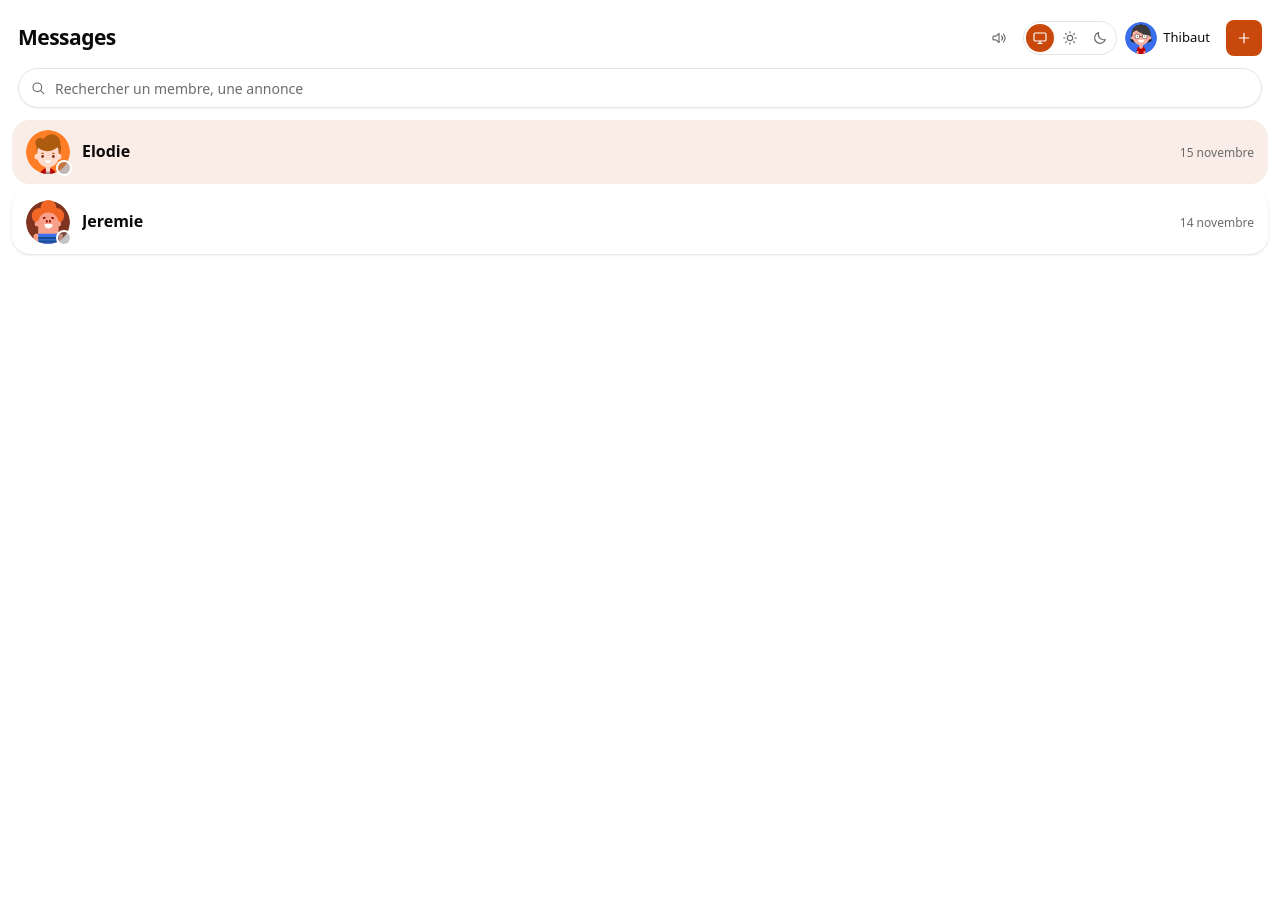
Test: ConversationList › opens the new conversation dialog and lists the members
This screenshot has width=1280, height=900.
Check: the list named "Liste des conversations" is shown, box [12,120,1268,254]
Click the button named "Nouvelle conversation": (1244, 38) [1226,20,1262,56]
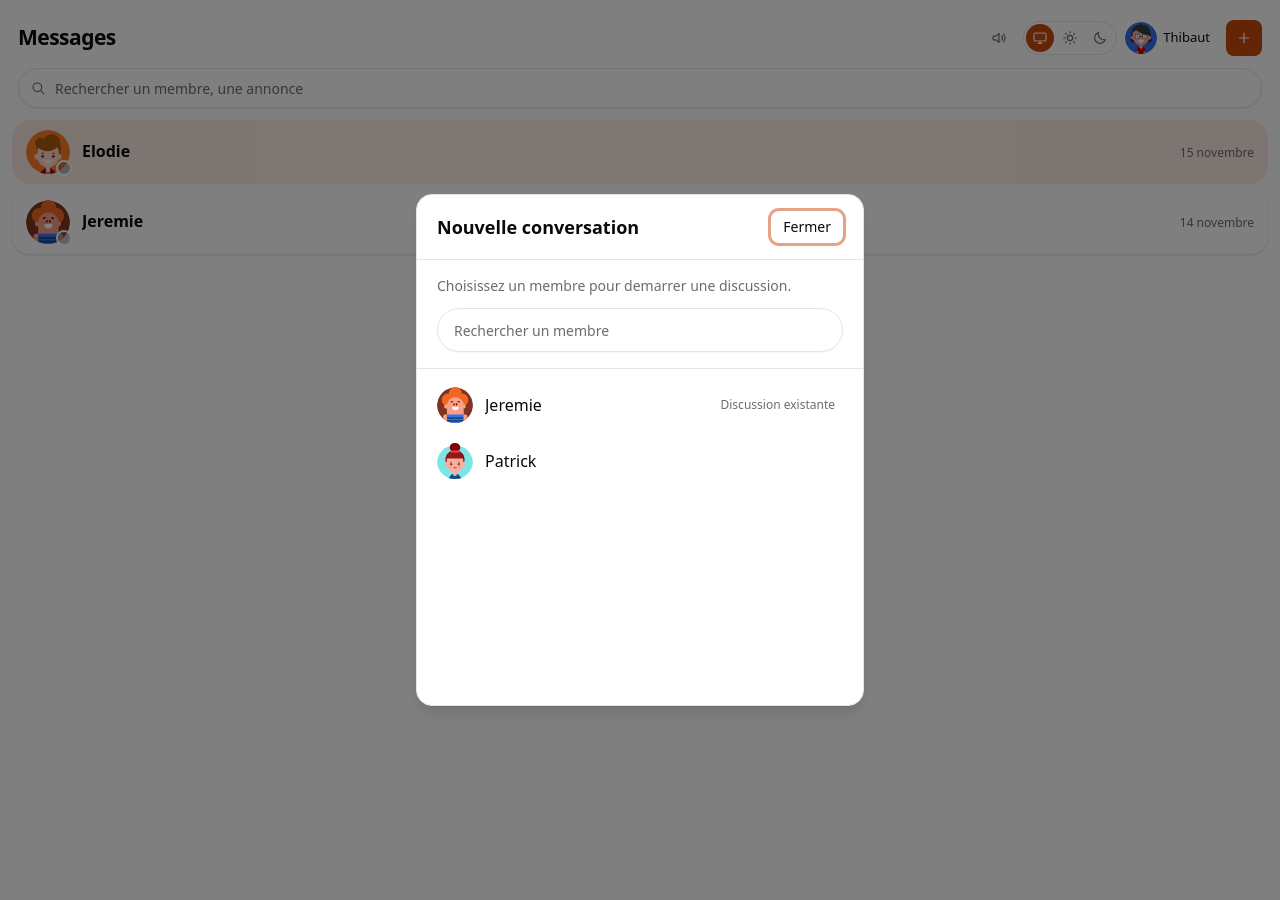
Check: the heading "Nouvelle conversation" is shown, box [437,213,639,241]
Check: the text "Patrick" is shown, box [485,450,536,472]
